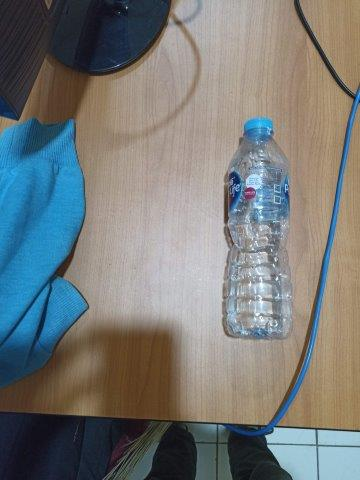botolplastik: (228, 116, 292, 341)
